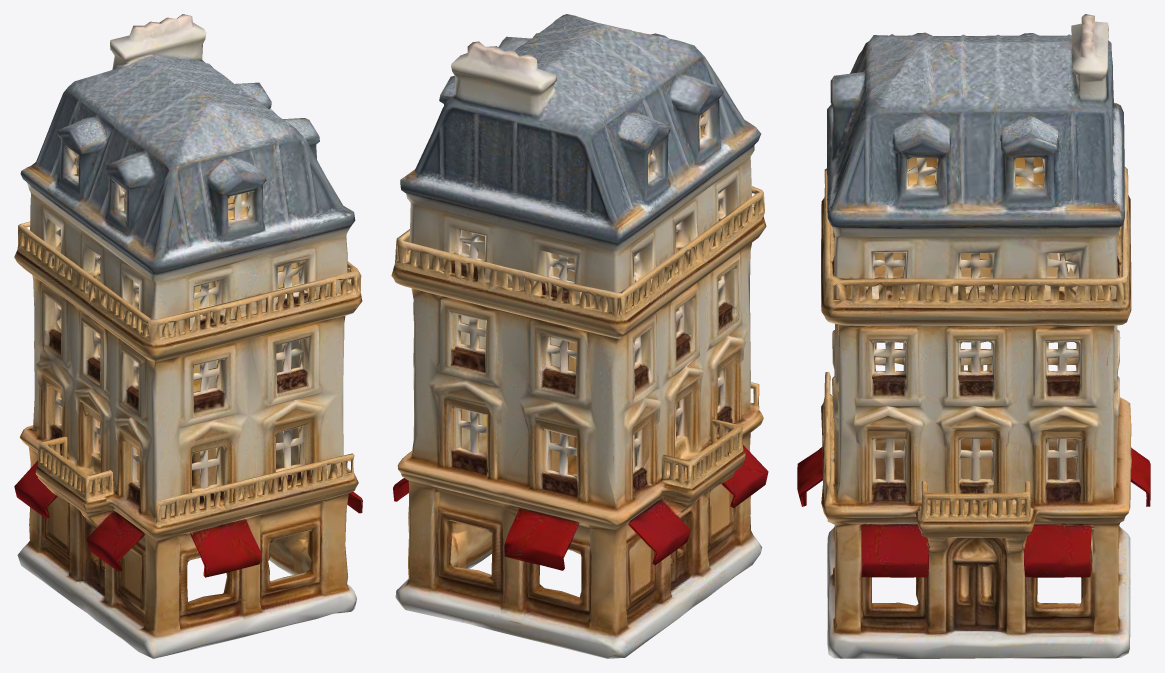
Rendered from townhouse.glb.
The picture shows the model from 3 angles, left to right: view 1: azimuth 30°, elevation 25°; view 2: azimuth 150°, elevation 25°; view 3: azimuth 270°, elevation 25°; orthographic projection. The views are drawn at different scales.
Size of the model in its own units: 1.04 by 2 by 1.09.
Materials: 1 (1 with a texture image).
